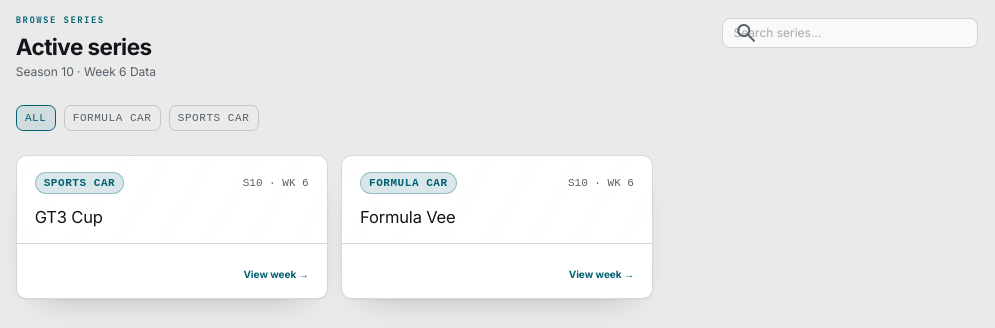
Test: SeriesPage › filters by category chips and toggles the active chip off
This screenshot has width=995, height=328.
Expected: the heading "GT3 Cup" is shown, 35,207 -> 103,227
Click the button "Formula Car". click: (112, 118)
box: 64,105 -> 161,131
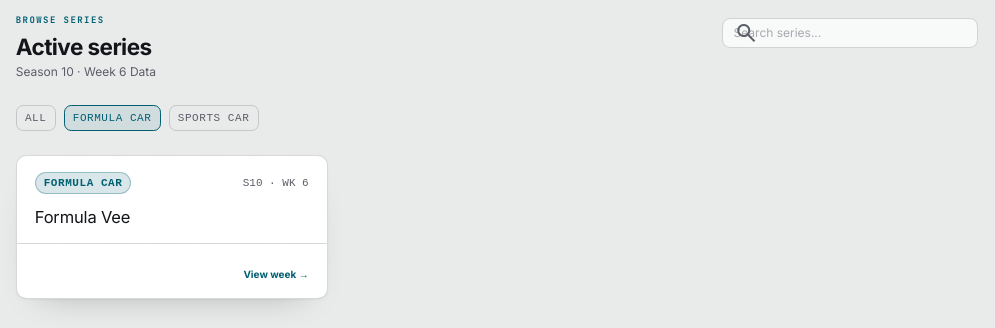
Expected: the heading "Formula Vee" is shown, 35,207 -> 130,227
Result: the link "GT3 Cup" is gone
# Clicking the active chip again clears the filter → both shown.
Click the button "Formula Car". click: (112, 118)
box: 64,105 -> 161,131
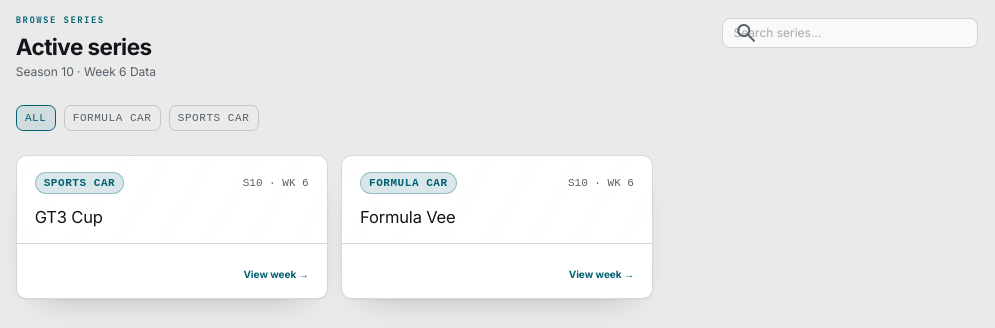
Expected: the heading "Formula Vee" is shown, 360,207 -> 456,227
Result: the heading "GT3 Cup" is shown at 35,207 -> 103,227
